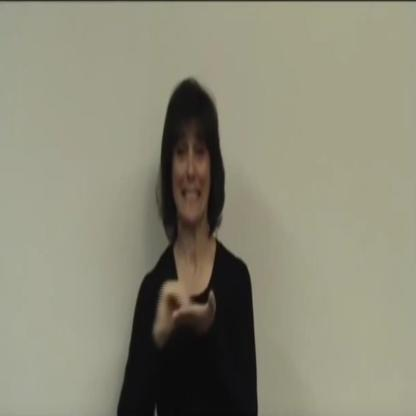ExcuseMe: (150, 261, 219, 355)
